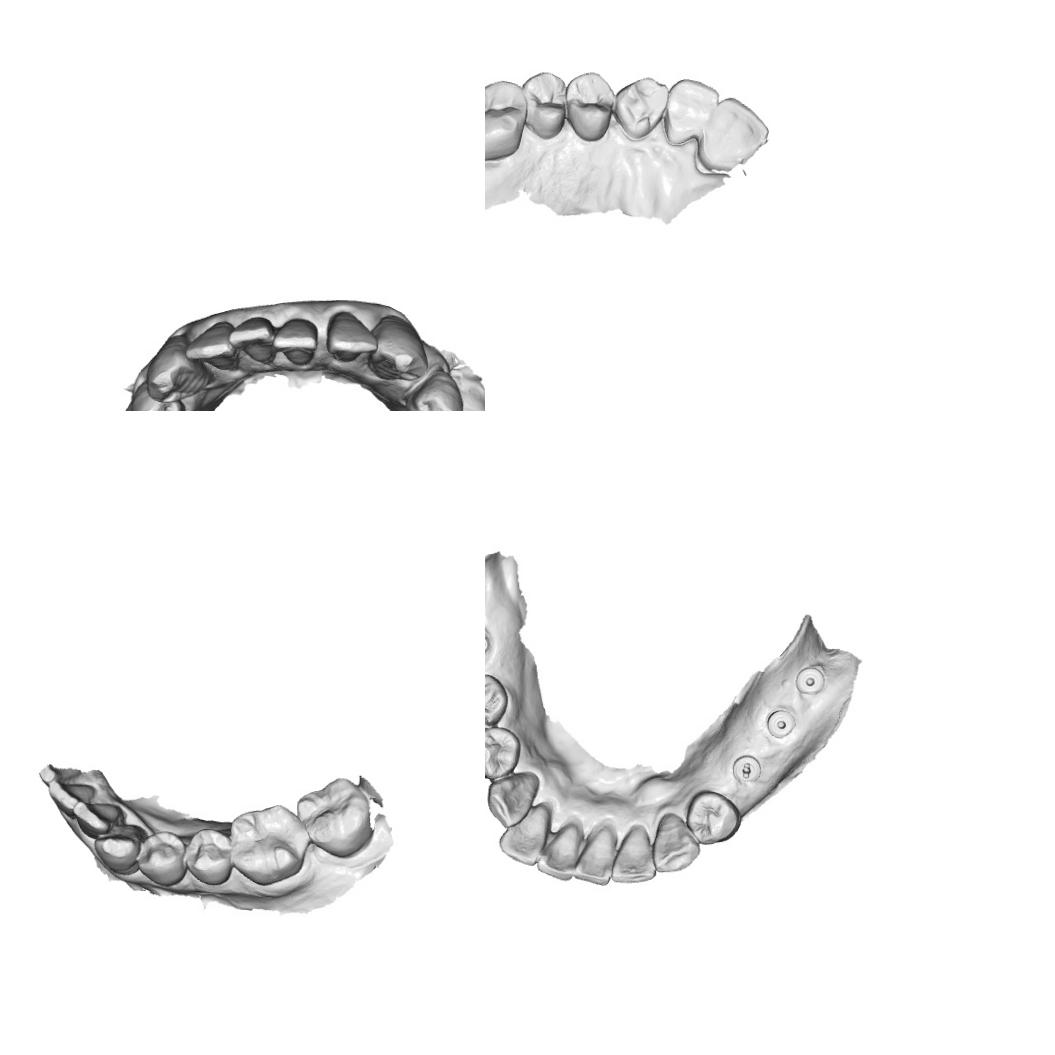canine: (143, 335, 208, 403), (368, 314, 430, 382), (610, 75, 670, 140), (485, 769, 541, 830), (650, 812, 702, 875), (92, 832, 140, 876)
implant: (792, 663, 828, 698), (765, 706, 798, 741)
implant_minus: (730, 752, 763, 785)
incisor: (694, 95, 770, 174), (663, 76, 720, 146), (498, 801, 552, 866), (610, 822, 658, 885), (535, 820, 583, 882), (324, 310, 379, 364), (571, 824, 618, 887), (184, 320, 238, 374), (228, 316, 276, 366), (272, 316, 320, 366), (70, 800, 117, 838), (45, 778, 94, 810)
molar: (227, 802, 313, 886), (294, 776, 374, 859), (485, 76, 529, 164)
premolar: (564, 70, 617, 144), (520, 68, 570, 142), (683, 788, 743, 846), (180, 826, 232, 886), (137, 830, 185, 887), (404, 368, 464, 411), (485, 724, 523, 782), (485, 672, 509, 737), (127, 397, 186, 411)
